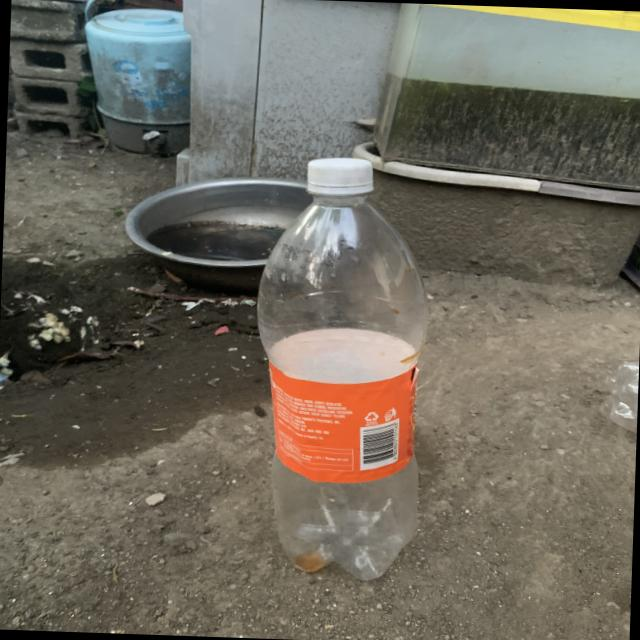Bottle: (258, 158, 427, 579)
